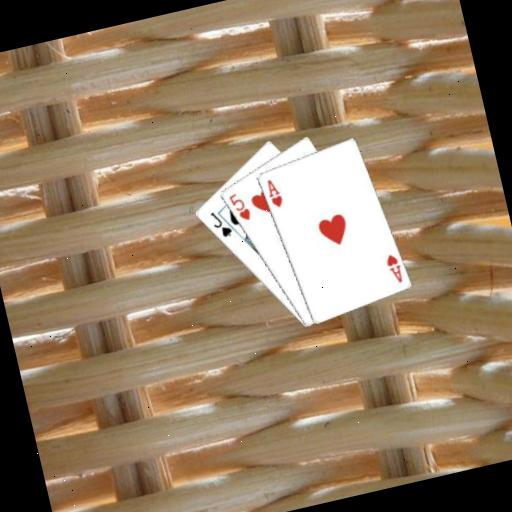5H: (225, 188, 253, 225)
AH: (381, 250, 405, 287), (261, 175, 285, 211)
JS: (206, 205, 235, 241)
